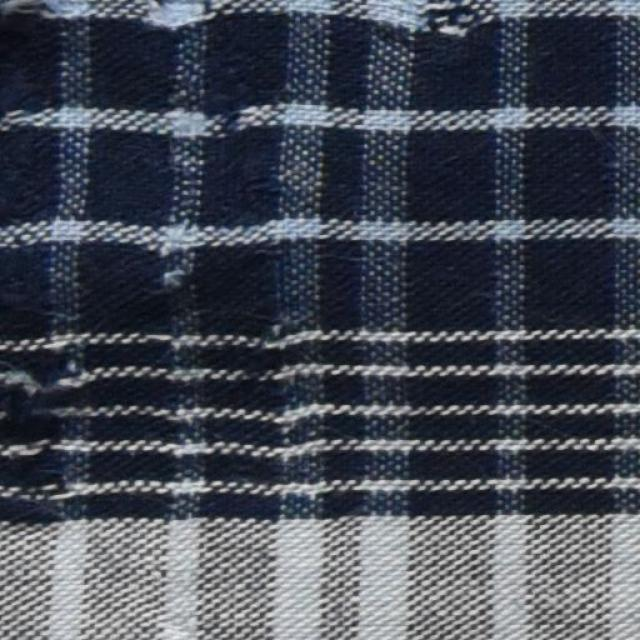Snag: (7, 339, 76, 494), (414, 0, 482, 60)
